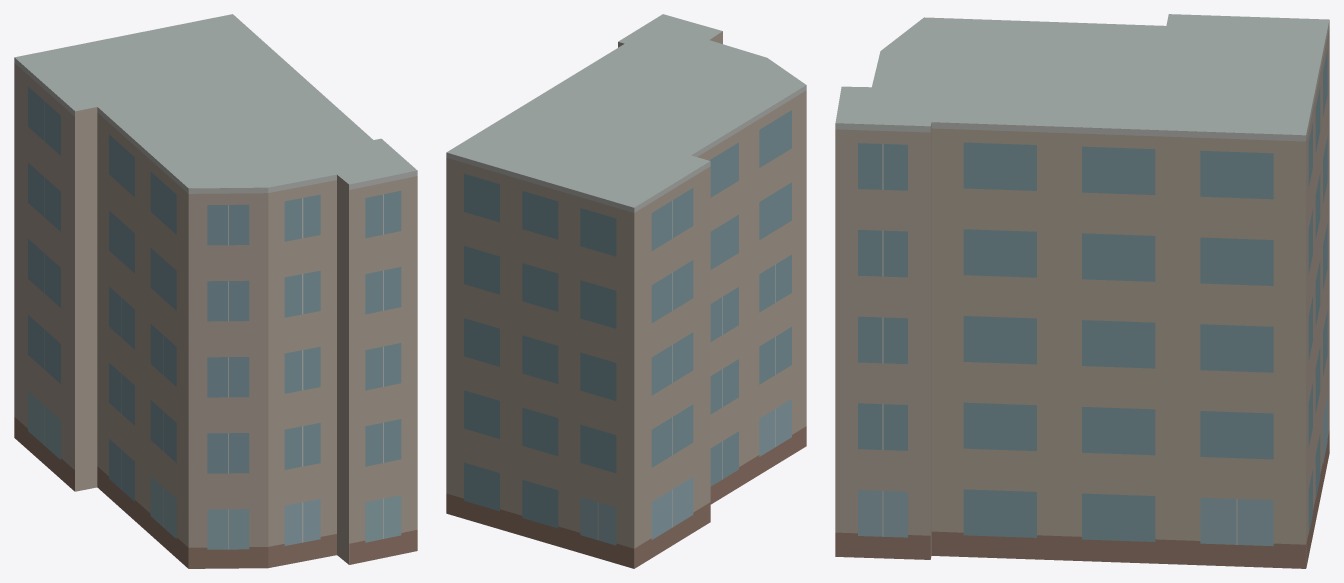
File: survey-upis-32956068.glb
The picture shows the model from 3 angles, left to right: view 1: azimuth 30°, elevation 25°; view 2: azimuth 150°, elevation 25°; view 3: azimuth 270°, elevation 25°; orthographic projection. The views are drawn at different scales.
Parts seen in each view (by area): view 1: survey-upis-32956068.tmp; view 2: survey-upis-32956068.tmp; view 3: survey-upis-32956068.tmp.
Boxes of the visible parts, left/top/right/bottom form: survey-upis-32956068.tmp: left=14, top=14, right=417, bottom=568; survey-upis-32956068.tmp: left=446, top=14, right=806, bottom=568; survey-upis-32956068.tmp: left=835, top=14, right=1329, bottom=568.
Bounding box in the file's own units: 10.21 × 17 × 17.57.
